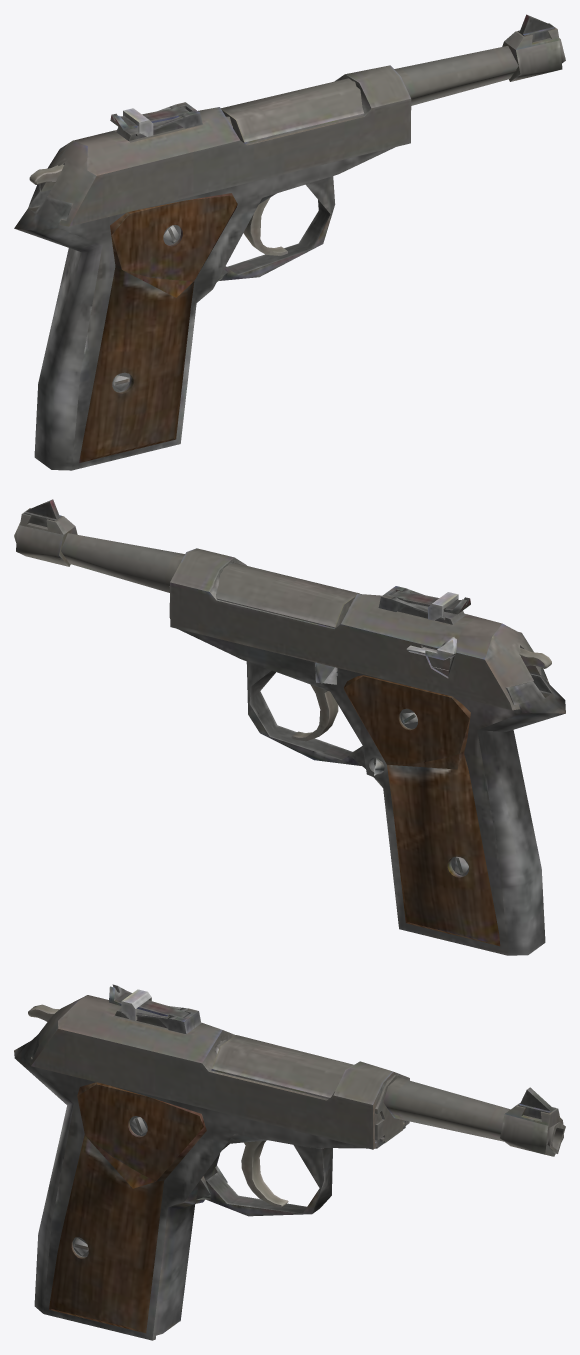
Rendered from pistol.glb.
3 renders of one model, top to bottom at view 1: azimuth 30°, elevation 25°; view 2: azimuth 150°, elevation 25°; view 3: azimuth 330°, elevation 25°, orthographic.
Parts seen in each view (by area): view 1: service_pistol_pistol_a; view 2: service_pistol_pistol_a; view 3: service_pistol_pistol_a.
Part boxes in pixels (x1,y1,x2,y2): service_pistol_pistol_a: (14,14,565,470); service_pistol_pistol_a: (14,499,565,955); service_pistol_pistol_a: (14,984,565,1340).
Size of the model in its own units: 0.2219 by 0.1295 by 0.0317.
Materials: 1 (1 with a texture image).
